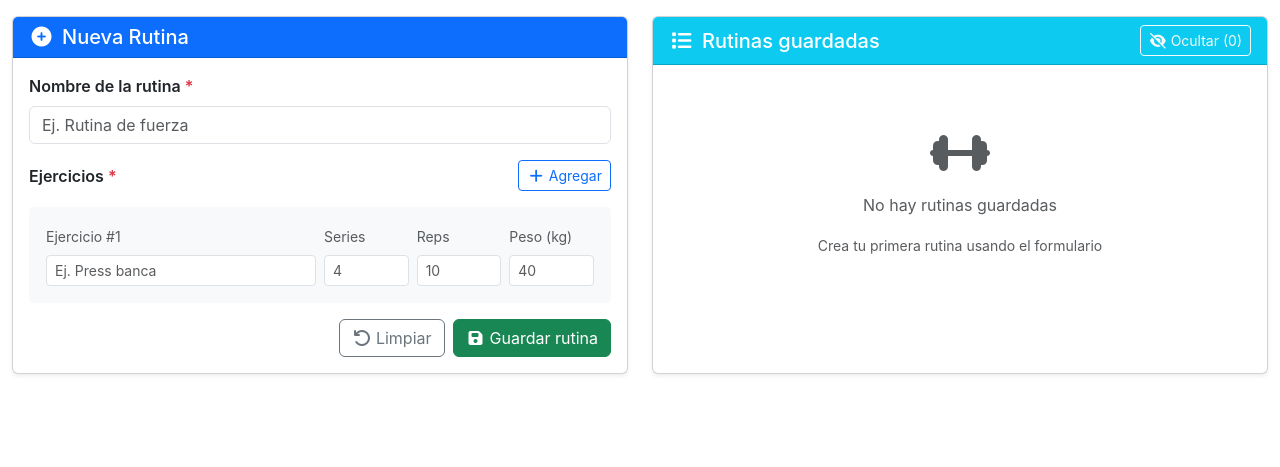
Test: si el nombre de la rutina esta vacio, muestra un error y no hace POST
This screenshot has width=1280, height=467.
Click the button "Guardar rutina".
click(532, 338)  # box [452,319,611,357]
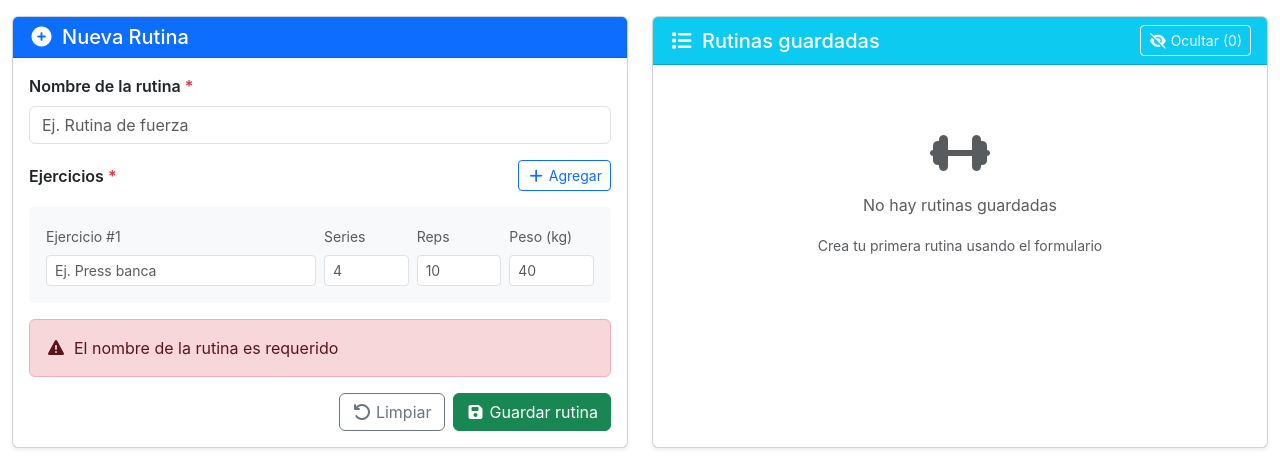
Check: the text "El nombre de la rutina es requerido" is shown, box [29,319,611,377]
